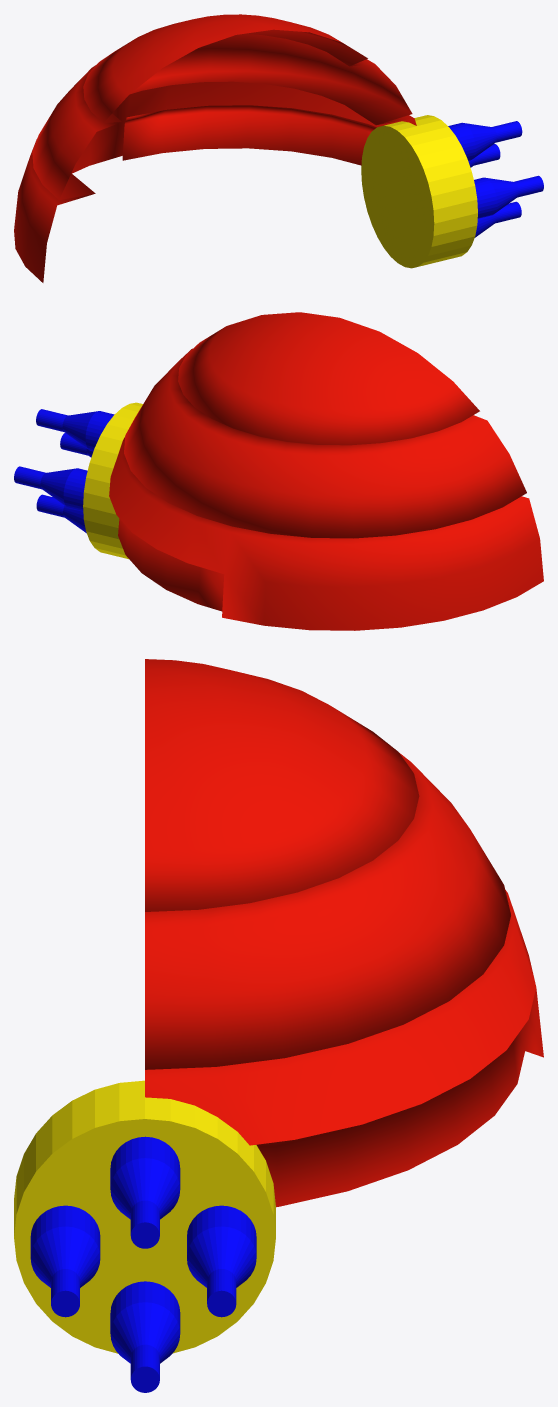
The model's file is sphere_turret.glb.
3 renders of one model, top to bottom at view 1: azimuth 30°, elevation 25°; view 2: azimuth 150°, elevation 25°; view 3: azimuth 270°, elevation 25°, orthographic. The views are drawn at different scales.
Parts seen in each view (by area): view 1: Sphere, Cylinder, Cylinder.004; view 2: Sphere, Cylinder.004, Cylinder; view 3: Sphere, Cylinder, Cylinder.004.
Part boxes in pixels (bbox=[...]): Sphere: bbox=[14, 14, 416, 282]; Cylinder: bbox=[361, 115, 477, 268]; Cylinder.004: bbox=[448, 121, 543, 237]; Sphere: bbox=[109, 312, 543, 630]; Cylinder.004: bbox=[14, 409, 114, 533]; Cylinder: bbox=[83, 402, 142, 559]; Sphere: bbox=[145, 659, 543, 1207]; Cylinder: bbox=[14, 1080, 275, 1353]; Cylinder.004: bbox=[30, 1136, 256, 1392].
Bounding box in the file's own units: 2.47 × 1.33 × 1.33.
